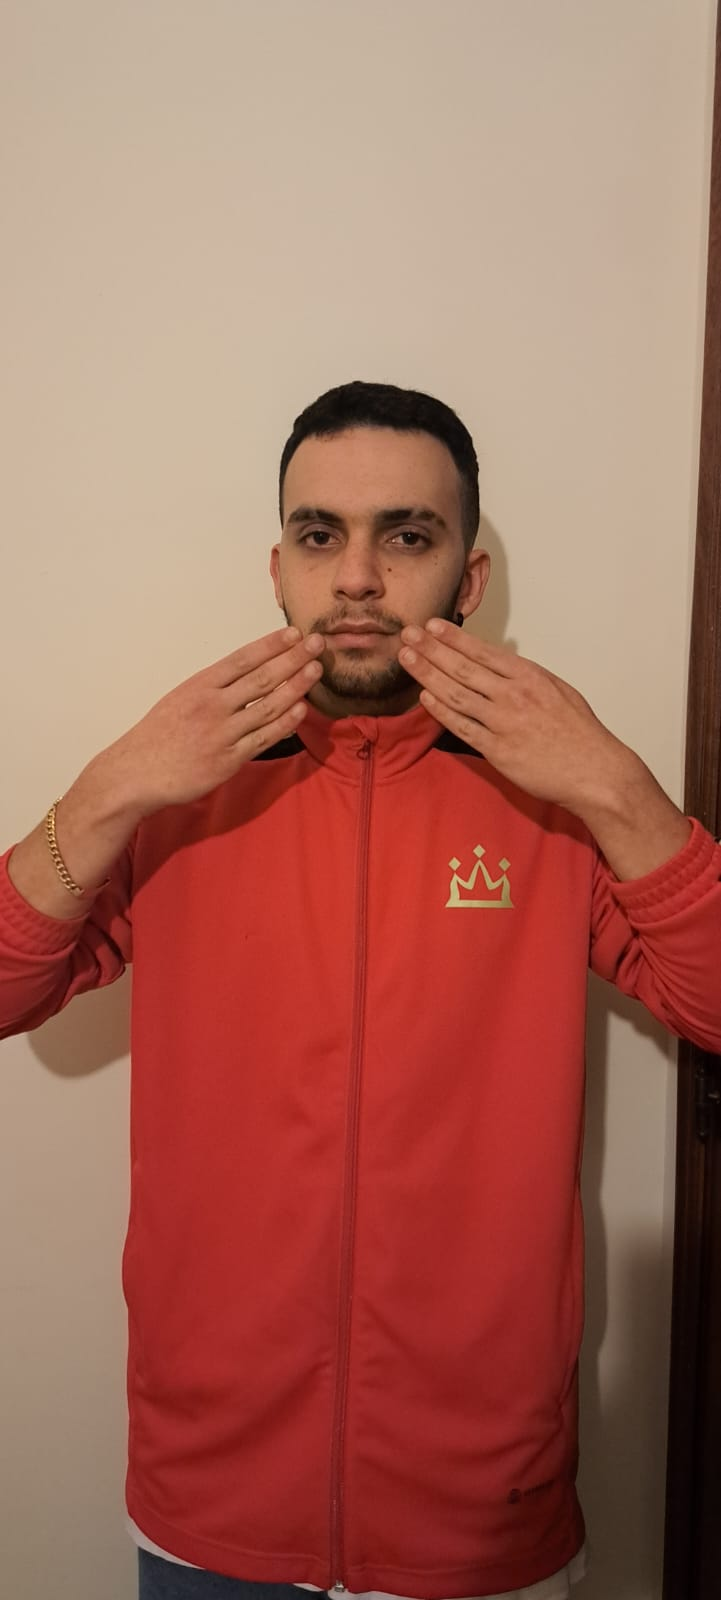grazie: (128, 615, 605, 831)
